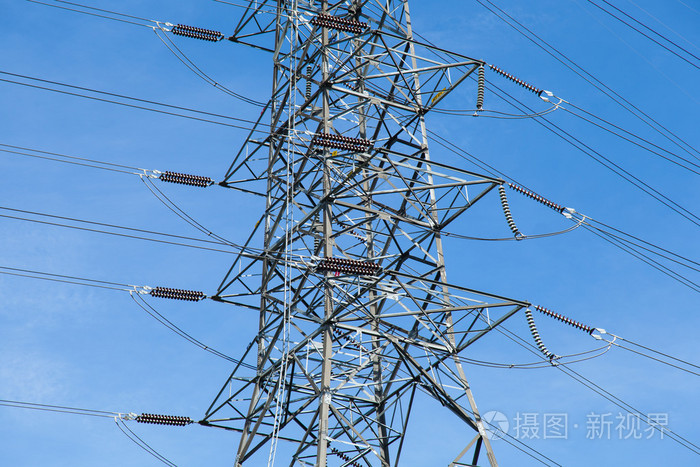insulator: (310, 130, 379, 161), (510, 184, 565, 212), (538, 305, 590, 333), (491, 63, 539, 92), (524, 308, 552, 356), (310, 12, 367, 35), (316, 256, 375, 276), (170, 22, 222, 43), (496, 185, 518, 232), (157, 170, 211, 188), (149, 285, 203, 302), (135, 411, 189, 428), (476, 63, 486, 110)
